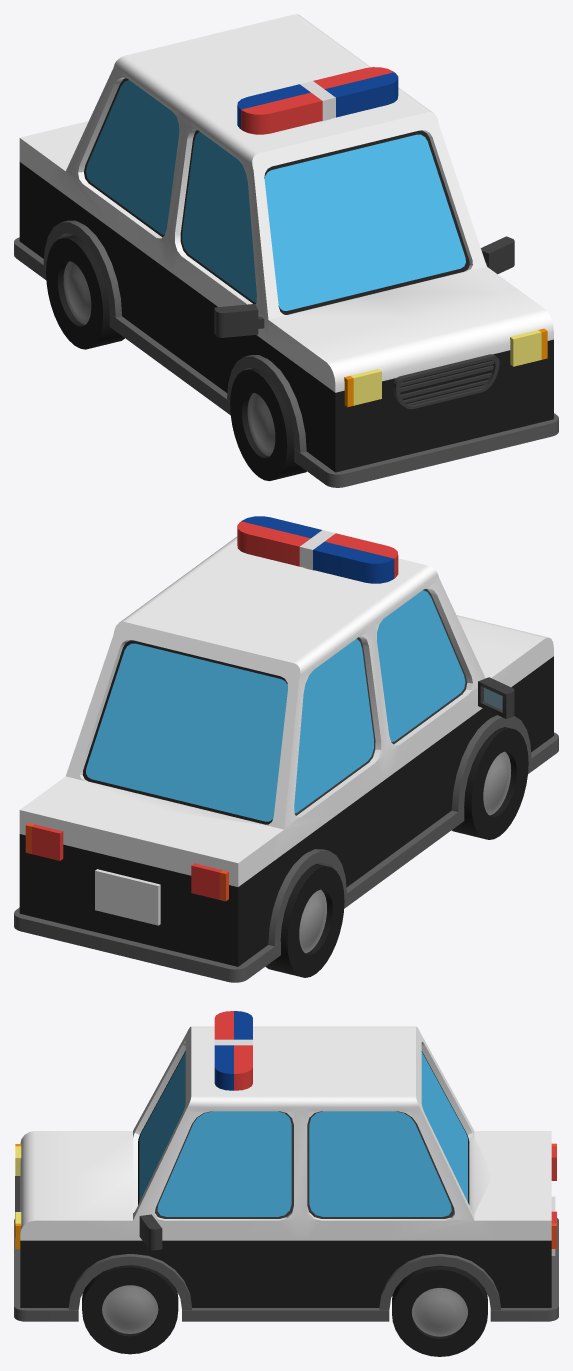
Rendered from oncoming_police_car.gltf.
3 renders of one model, top to bottom at view 1: azimuth 30°, elevation 25°; view 2: azimuth 150°, elevation 25°; view 3: azimuth 270°, elevation 25°, orthographic. The views are drawn at different scales.
Parts seen in each view (by area): view 1: Cube.648, Circle.2383, Cube.652, Cube.649, Cube.650, Cube.655, Cube.653, Cube.651; view 2: Cube.648, Circle.2383, Cube.652, Cube.649, Cube.650, Cube.651, Cube.653; view 3: Cube.648, Circle.2383, Cube.652, Cube.650, Cube.649, Cube.651, Cube.653.
Boxes of the visible parts, left/top/right/bottom form: Cube.648: left=19, top=14, right=553, bottom=472; Circle.2383: left=46, top=235, right=306, bottom=481; Cube.652: left=14, top=237, right=558, bottom=487; Cube.649: left=237, top=67, right=398, bottom=134; Cube.650: left=43, top=220, right=306, bottom=452; Cube.655: left=393, top=354, right=499, bottom=409; Cube.653: left=214, top=236, right=514, bottom=337; Cube.651: left=344, top=328, right=547, bottom=407; Cube.648: left=19, top=536, right=553, bottom=966; Circle.2383: left=265, top=727, right=528, bottom=977; Cube.652: left=14, top=732, right=558, bottom=982; Cube.649: left=237, top=516, right=398, bottom=583; Cube.650: left=268, top=715, right=531, bottom=946; Cube.651: left=25, top=823, right=228, bottom=901; Cube.653: left=478, top=677, right=514, bottom=718; Cube.648: left=20, top=1026, right=551, bottom=1307; Circle.2383: left=82, top=1265, right=487, bottom=1356; Cube.652: left=14, top=1196, right=558, bottom=1321; Cube.650: left=68, top=1254, right=500, bottom=1310; Cube.649: left=214, top=1011, right=252, bottom=1090; Cube.651: left=15, top=1143, right=556, bottom=1249; Cube.653: left=139, top=1214, right=162, bottom=1250.
Bounding box in the file's own units: 1.9 × 1.92 × 3.59.
Materials: 1 (1 with a texture image).
